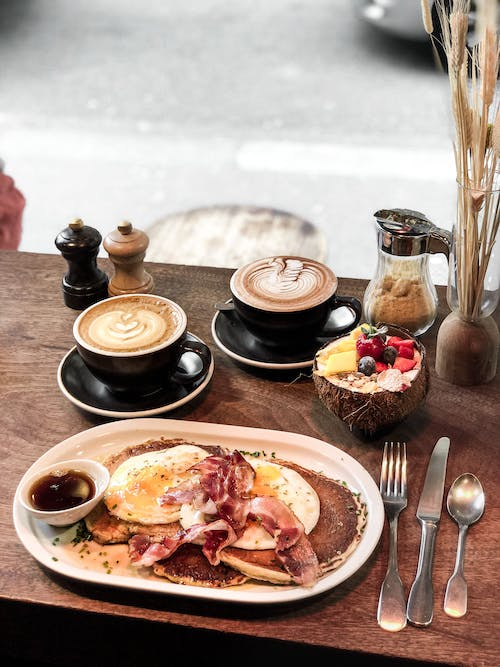knife: (402, 433, 453, 628)
